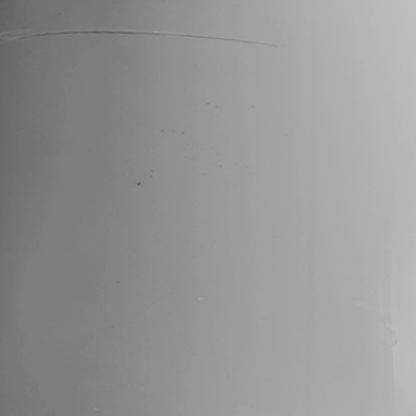sunshang: (1, 27, 277, 49)
